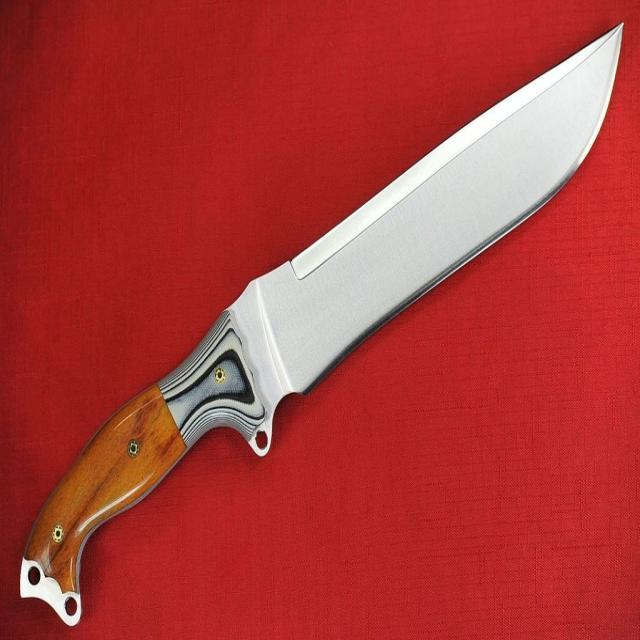Knife: (21, 25, 622, 624)
